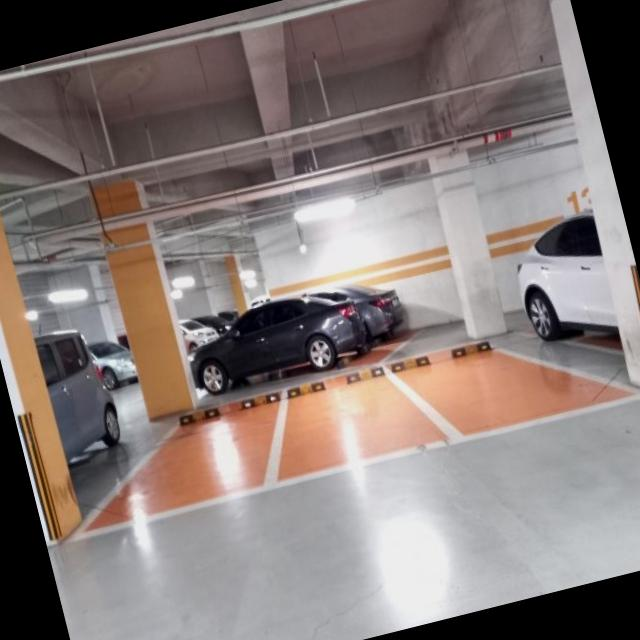free: (115, 381, 298, 524), (391, 309, 566, 456), (274, 348, 419, 488)
